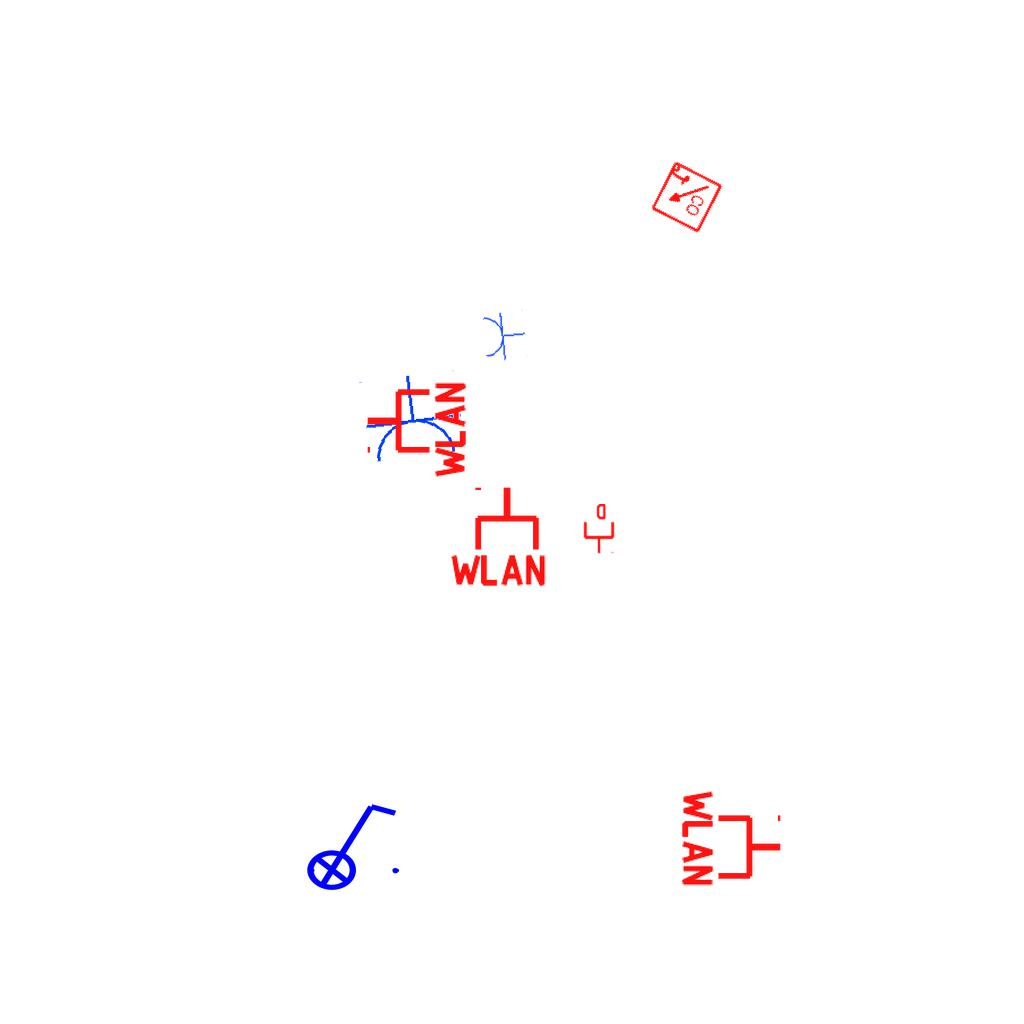Ausschalter_beleuchtet: (293, 796, 405, 892)
Datenanschluss_einfach: (582, 504, 616, 554)
ROA_Rauchmelder_optisch_mit_Signalgeber_(Sockelsirene): (648, 159, 724, 235)
Schukosteckdose_einfach: (357, 369, 467, 468), (480, 308, 528, 363)
WLAN: (446, 483, 550, 588), (680, 786, 785, 890), (363, 378, 468, 482)
